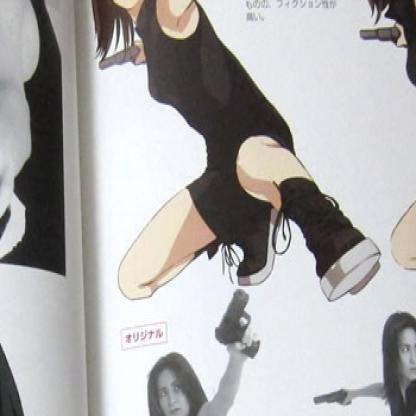gun: (209, 286, 265, 355), (361, 22, 402, 48), (96, 48, 137, 68), (312, 385, 351, 405)
